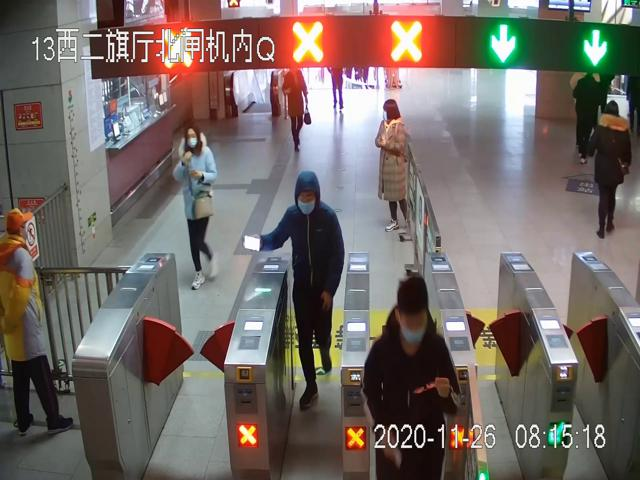person: (262, 170, 345, 409), (0, 206, 73, 435), (174, 126, 222, 291), (590, 100, 632, 236), (374, 98, 416, 232)
